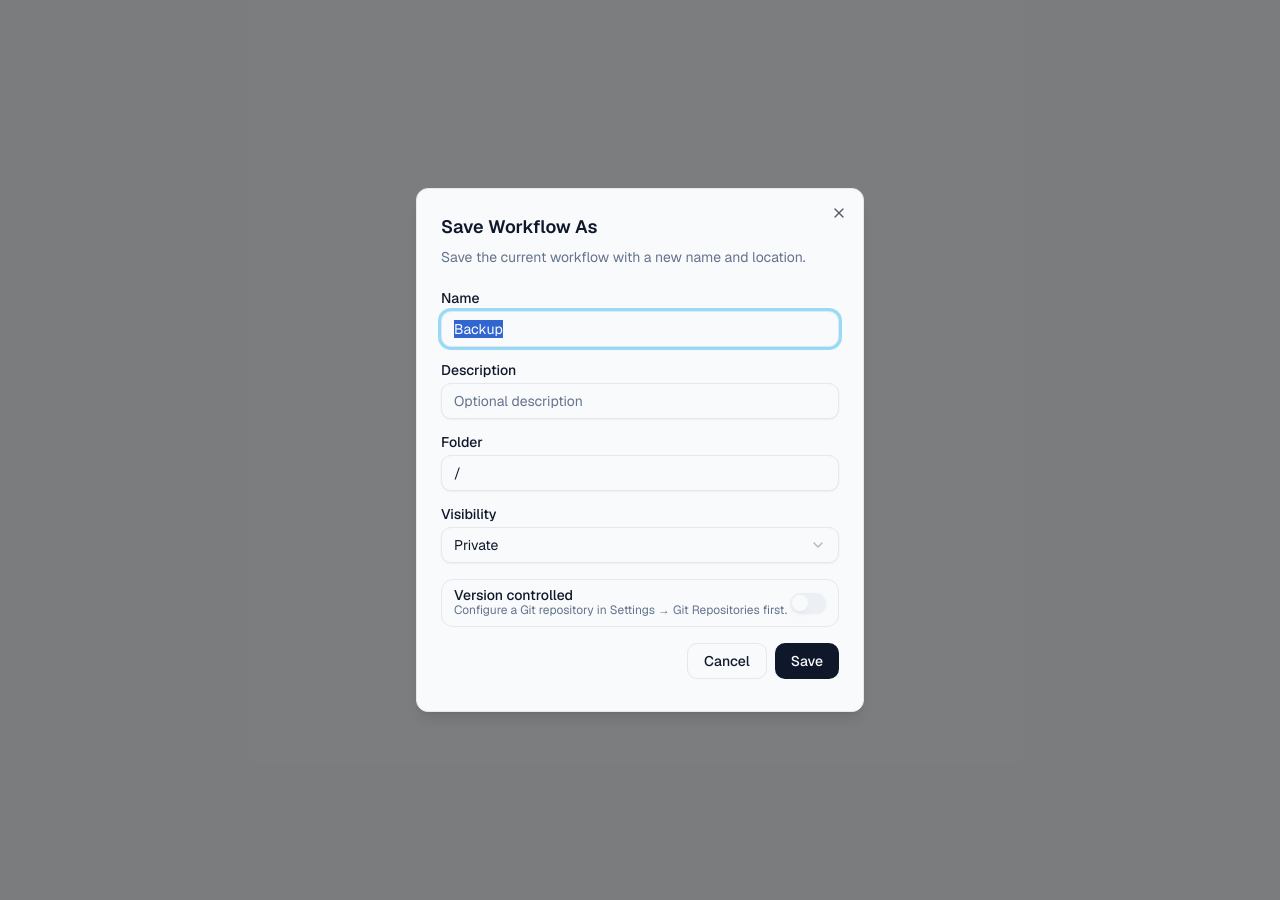
WorkflowSaveAsDialog › hides the overwrite offer once the name or folder changes
Click the button "Save" at point(807, 661), box [775,643,839,679]
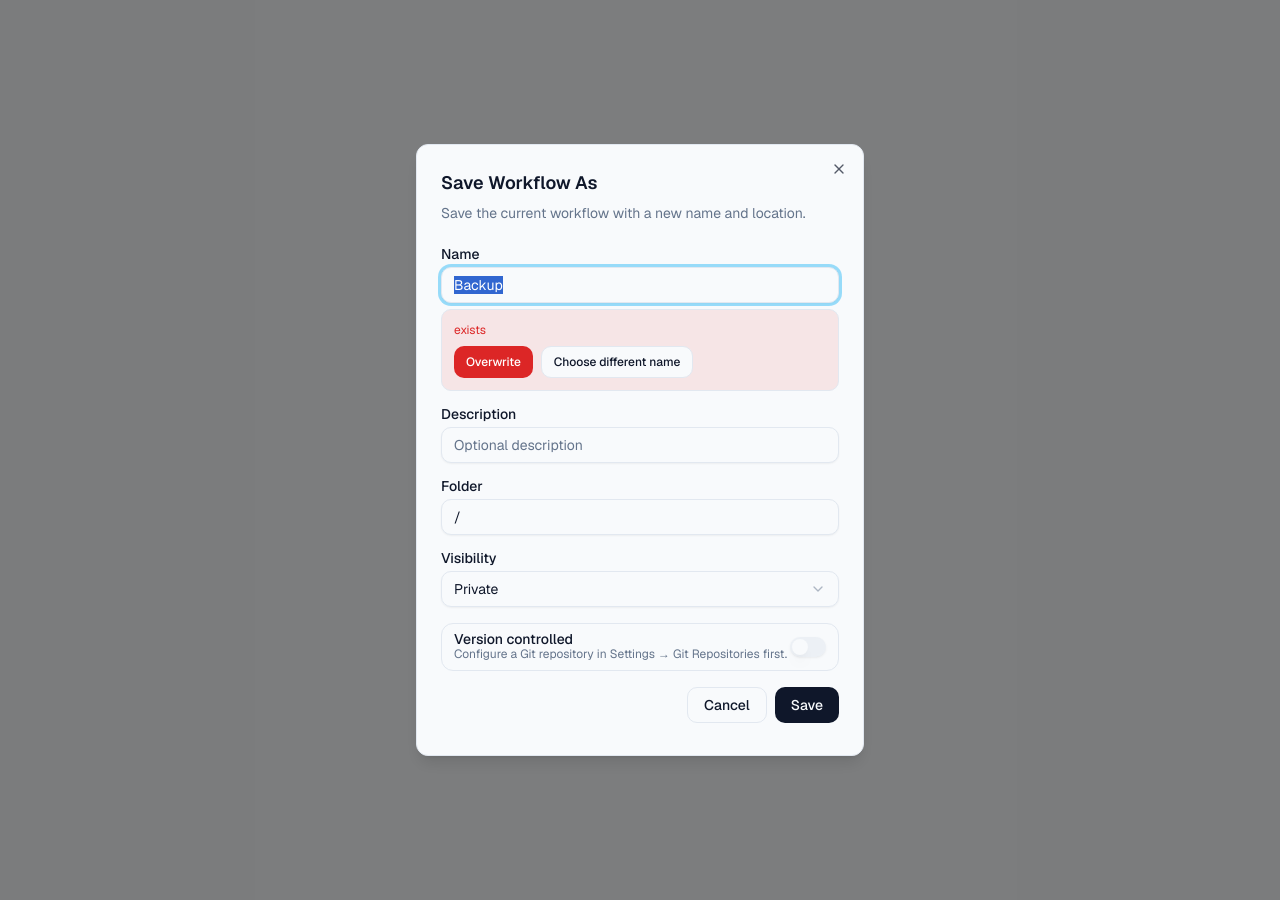
expect the button "Overwrite" is shown: met, box [454,346,533,378]
Replace the text in the field labelled "Name" with "Backup 2" at point(640, 285), box [441,267,839,303]
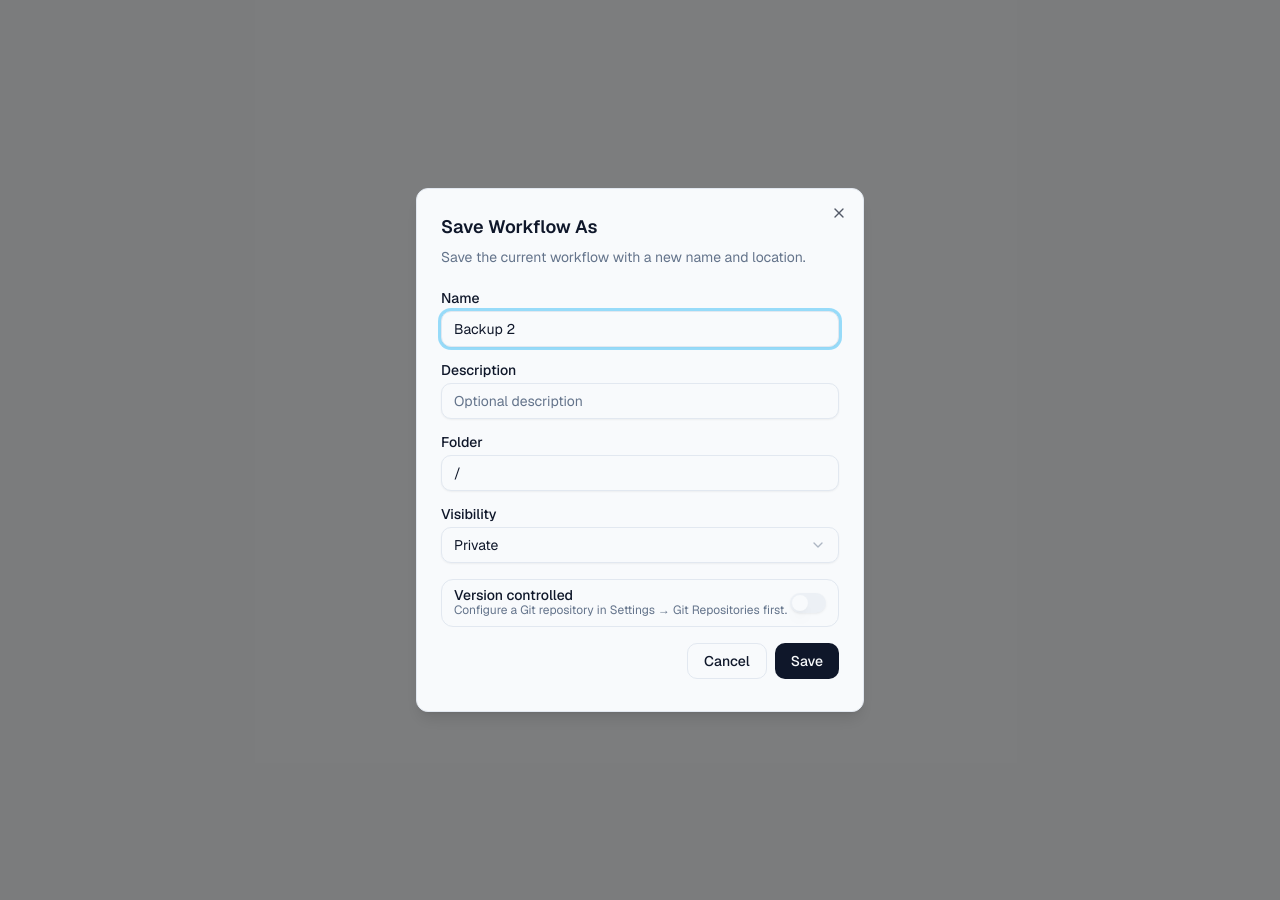
expect the button "Overwrite" is gone: met
Click the button "Save" at point(807, 661), box [775,643,839,679]
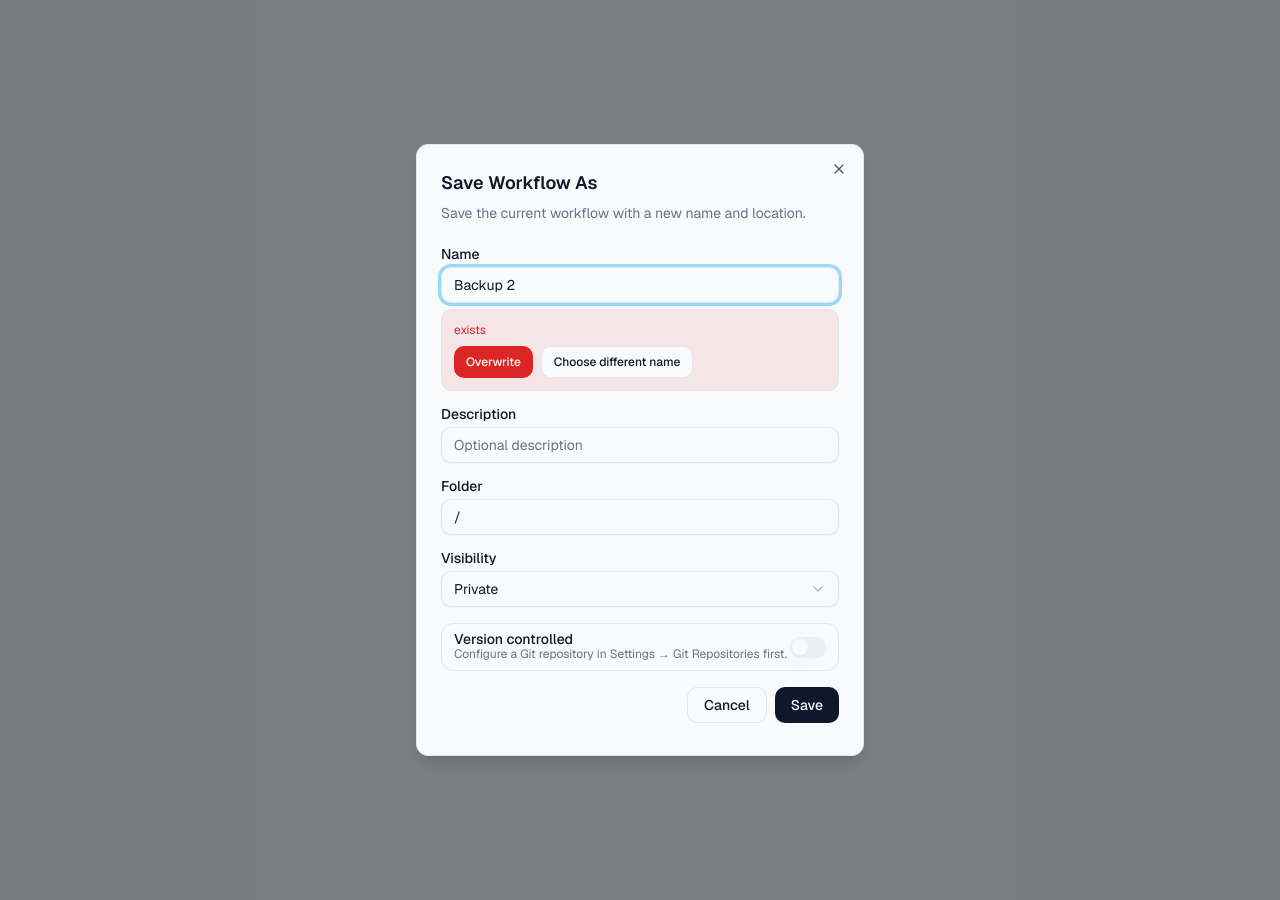
expect the button "Overwrite" is shown: met, box [454,346,533,378]
Type "/other" into the field labelled "Folder" at point(640, 517), box [441,499,839,535]
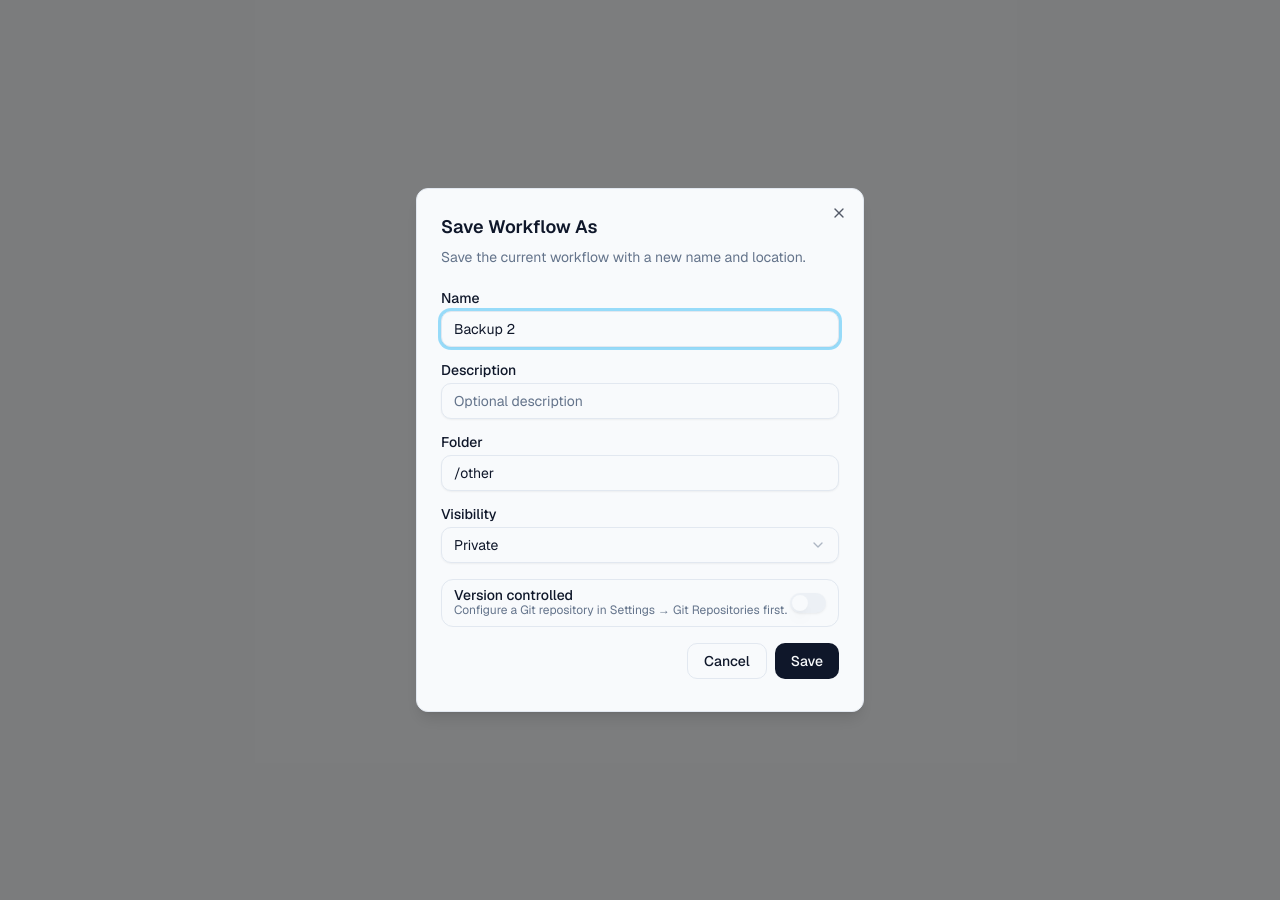
expect the button "Overwrite" is gone: met
